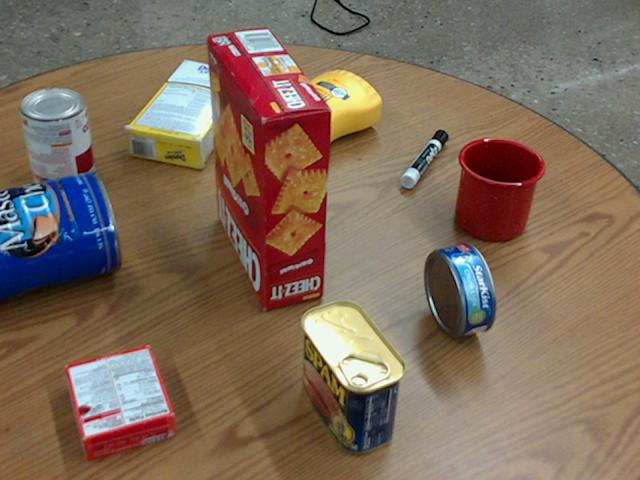cracker_box: (206, 27, 330, 309)
gelatin_box: (65, 344, 176, 459)
large_marker: (400, 130, 447, 187)
master_chef_can: (0, 169, 120, 301)
mug: (453, 136, 544, 240)
mustard_bottle: (237, 71, 381, 157)
potted_meat_can: (300, 299, 408, 454)
sugar_box: (125, 58, 249, 168)
tomato_soup_can: (20, 87, 95, 199)
tuna_fish_can: (425, 241, 494, 336)
